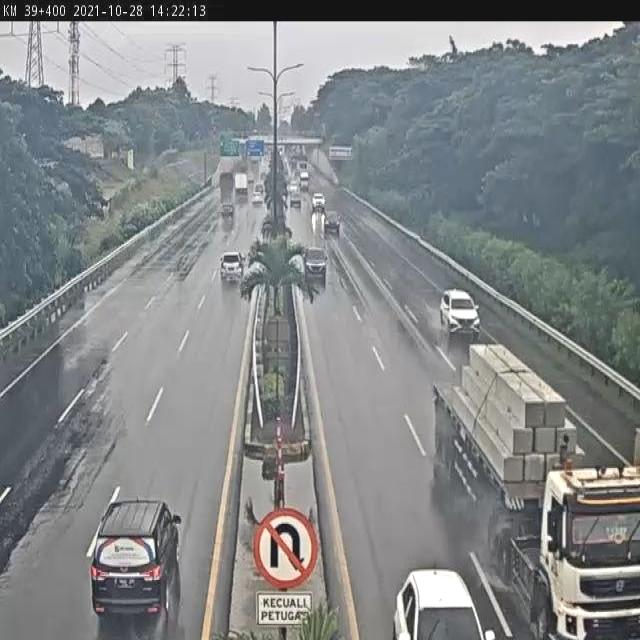Car: (90, 496, 180, 619), (389, 565, 488, 640), (438, 288, 481, 339), (300, 244, 330, 285), (217, 249, 246, 284), (323, 210, 342, 237), (310, 190, 328, 212)
Truck: (429, 340, 640, 640)
